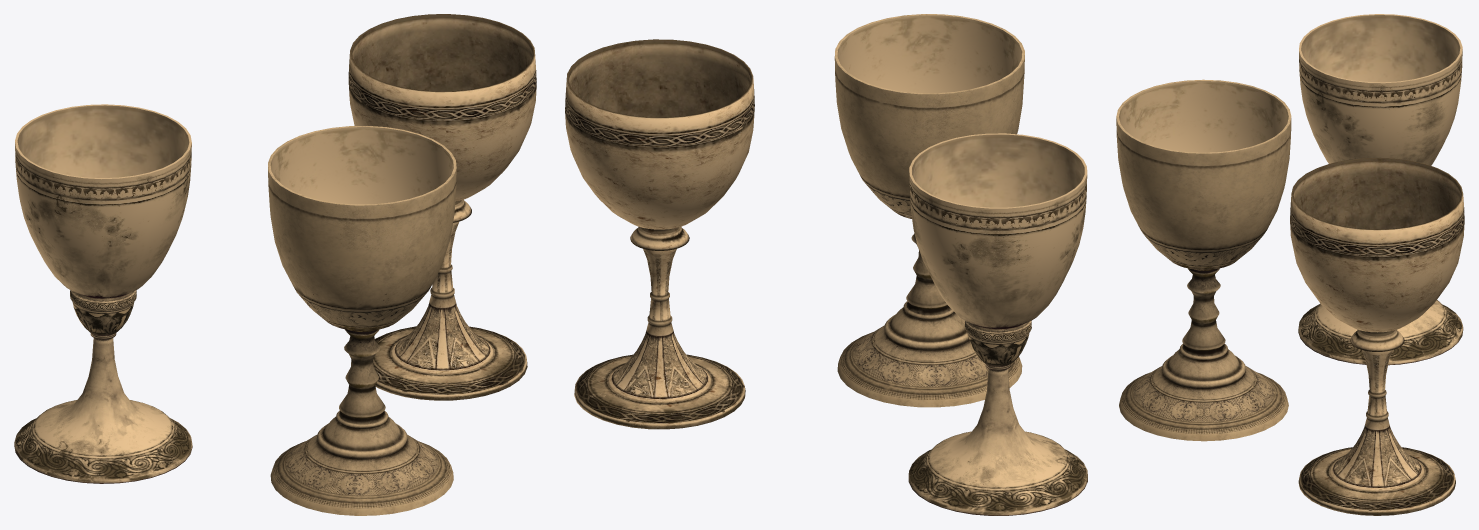
The model's file is brass_goblets.glb.
3 views of the same model, side by side, from view 1: azimuth 30°, elevation 25°; view 2: azimuth 150°, elevation 25°; view 3: azimuth 270°, elevation 25° (orthographic). The views are drawn at different scales.
Visible parts, largest first — view 1: brass_goblet_01, brass_goblet_02, brass_goblet_03; view 2: brass_goblet_02, brass_goblet_03, brass_goblet_01; view 3: brass_goblet_01, brass_goblet_03, brass_goblet_02.
Part boxes in pixels (x1,y1,x2,y2): brass_goblet_01: (268,126,456,515); brass_goblet_02: (14,104,192,483); brass_goblet_03: (348,14,536,400); brass_goblet_02: (908,133,1087,515); brass_goblet_03: (565,39,754,429); brass_goblet_01: (834,14,1024,407); brass_goblet_01: (1116,79,1291,441); brass_goblet_03: (1290,157,1464,515); brass_goblet_02: (1298,14,1463,365).
Size of the model in its own units: 0.4534 by 0.2734 by 0.2976.
3 materials, 3 textured.
